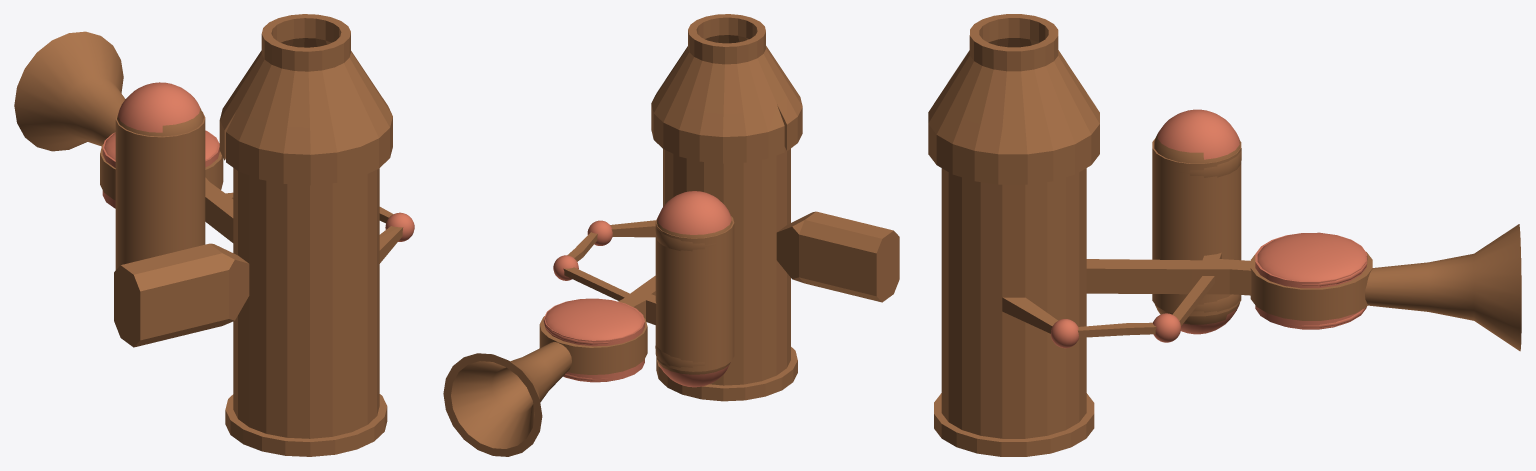
The model's file is Flamethrower.fbx.
The picture shows the model from 3 angles, left to right: view 1: azimuth 30°, elevation 25°; view 2: azimuth 150°, elevation 25°; view 3: azimuth 270°, elevation 25°; orthographic projection. The views are drawn at different scales.
Parts seen in each view (by area): view 1: polySurface1, polySurface5, polySurface8, polySurface7, pasted__polySurface5, polySurface2; view 2: polySurface1, polySurface5, polySurface8, pasted__polySurface5, polySurface7; view 3: polySurface1, polySurface5, polySurface8, pasted__polySurface5, polySurface7, polySurface2, polySurface3.
Part boxes in pixels (box(x1,y1,x2,y2)): polySurface1: box(114, 14, 403, 456); polySurface5: box(115, 82, 205, 269); polySurface8: box(14, 31, 125, 151); polySurface7: box(100, 144, 223, 200); pasted__polySurface5: box(102, 130, 219, 208); polySurface2: box(385, 212, 414, 241); polySurface1: box(563, 14, 899, 401); polySurface5: box(655, 191, 734, 387); polySurface8: box(443, 342, 571, 456); pasted__polySurface5: box(543, 298, 644, 382); polySurface7: box(539, 316, 647, 374); polySurface1: box(928, 14, 1251, 456); polySurface5: box(1152, 109, 1241, 334); polySurface8: box(1365, 224, 1521, 351); pasted__polySurface5: box(1255, 232, 1367, 329); polySurface7: box(1250, 252, 1372, 320); polySurface2: box(1050, 319, 1078, 348); polySurface3: box(1153, 313, 1180, 342).
Size of the model in its own units: 5.19 by 6.32 by 8.5.
